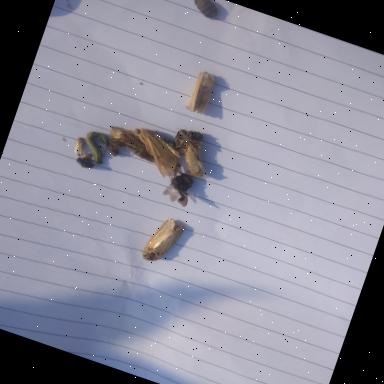abw: (162, 122, 222, 181), (125, 122, 185, 179), (134, 214, 190, 274), (181, 70, 222, 120)
pbw: (72, 138, 86, 157)
